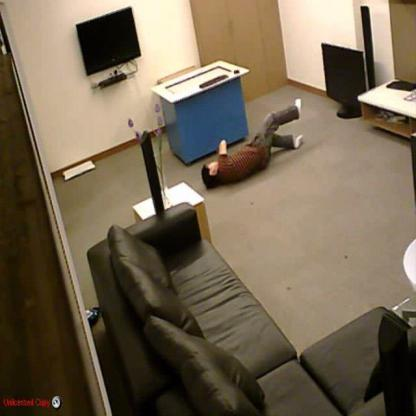Person: (200, 98, 304, 190)
